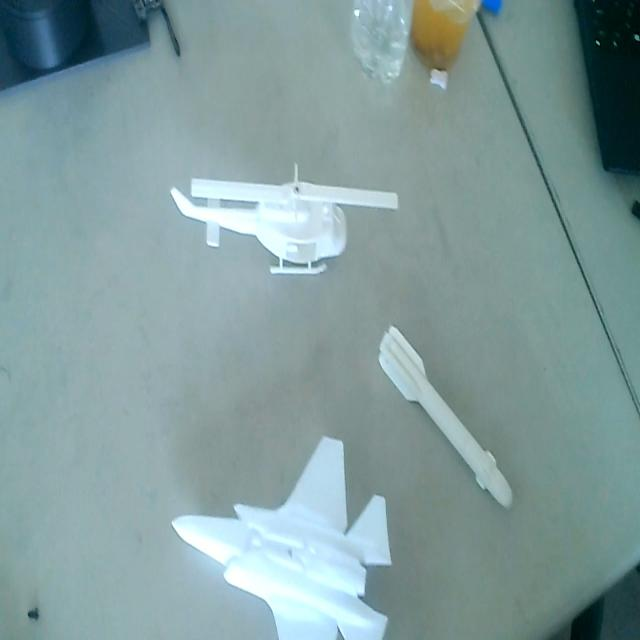Helicopter: (165, 159, 401, 283)
Jet: (165, 434, 395, 640)
Rocket: (374, 319, 514, 517)
